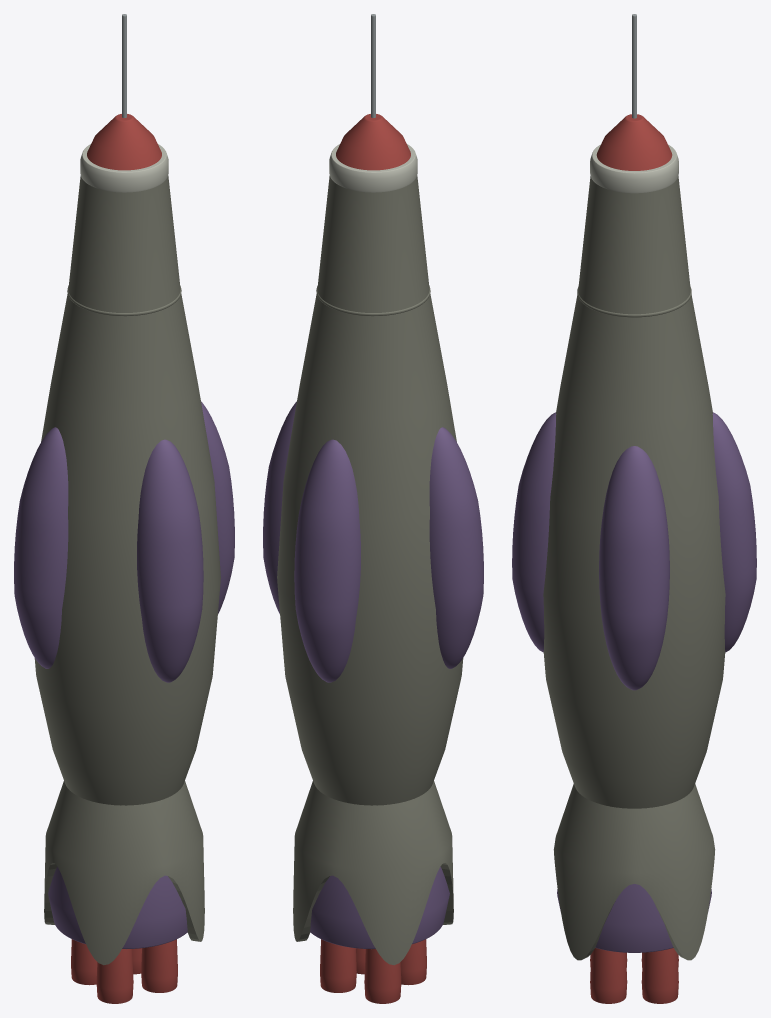
The picture shows the model from 3 angles, left to right: view 1: azimuth 30°, elevation 25°; view 2: azimuth 150°, elevation 25°; view 3: azimuth 270°, elevation 25°; orthographic projection.
Visible parts, largest first — view 1: Anti Virus long-neck pressure casing, Virus family scalloped olive skirt, Anti Virus long violet side form, Anti Virus long violet side form.003, Virus family violet skirt underlayer, Virus family red nose cap, Anti Virus long violet side form.001, Anti Virus pale nose collar, Virus family hollow red nozzle.001, Virus family hollow red nozzle, Virus family hollow red nozzle.002, Anti Virus shorter antenna; view 2: Anti Virus long-neck pressure casing, Virus family scalloped olive skirt, Anti Virus long violet side form.002, Anti Virus long violet side form.003, Virus family violet skirt underlayer, Virus family red nose cap, Anti Virus long violet side form.001, Anti Virus pale nose collar, Virus family hollow red nozzle.003, Virus family hollow red nozzle.002, Virus family hollow red nozzle, Anti Virus shorter antenna; view 3: Anti Virus long-neck pressure casing, Virus family scalloped olive skirt, Anti Virus long violet side form.001, Anti Virus long violet side form, Anti Virus long violet side form.002, Virus family violet skirt underlayer, Virus family red nose cap, Anti Virus pale nose collar, Virus family hollow red nozzle.001, Virus family hollow red nozzle.003.
Boxes of the visible parts, box(x1,y1,x2,y2) form: Anti Virus long-neck pressure casing: box(34, 175, 220, 805); Virus family scalloped olive skirt: box(44, 781, 204, 965); Anti Virus long violet side form: box(137, 439, 203, 682); Anti Virus long violet side form.003: box(14, 427, 68, 668); Virus family violet skirt underlayer: box(48, 866, 187, 949); Virus family red nose cap: box(87, 114, 161, 170); Anti Virus long violet side form.001: box(201, 401, 234, 613); Anti Virus pale nose collar: box(80, 144, 168, 192); Virus family hollow red nozzle.001: box(141, 939, 177, 992); Virus family hollow red nozzle: box(96, 949, 133, 1003); Virus family hollow red nozzle.002: box(71, 939, 97, 985); Anti Virus shorter antenna: box(122, 14, 126, 117); Anti Virus long-neck pressure casing: box(277, 175, 463, 805); Virus family scalloped olive skirt: box(293, 781, 453, 965); Anti Virus long violet side form.002: box(294, 439, 360, 682); Anti Virus long violet side form.003: box(429, 427, 483, 668); Virus family violet skirt underlayer: box(310, 866, 449, 949); Virus family red nose cap: box(336, 114, 410, 170); Anti Virus long violet side form.001: box(263, 401, 296, 613); Anti Virus pale nose collar: box(329, 144, 417, 192); Virus family hollow red nozzle.003: box(320, 939, 356, 992); Virus family hollow red nozzle.002: box(364, 949, 401, 1003); Virus family hollow red nozzle: box(400, 939, 426, 985); Anti Virus shorter antenna: box(371, 14, 375, 117); Anti Virus long-neck pressure casing: box(543, 176, 725, 808); Virus family scalloped olive skirt: box(553, 784, 715, 960); Anti Virus long violet side form.001: box(599, 446, 669, 690); Anti Virus long violet side form: box(512, 412, 556, 652); Anti Virus long violet side form.002: box(712, 412, 756, 652); Virus family violet skirt underlayer: box(557, 884, 711, 952); Virus family red nose cap: box(596, 114, 672, 170); Anti Virus pale nose collar: box(590, 144, 678, 193); Virus family hollow red nozzle.001: box(590, 948, 627, 1003); Virus family hollow red nozzle.003: box(641, 948, 678, 1003).
Size of the model in its own units: 1.38 by 6.06 by 1.38.
